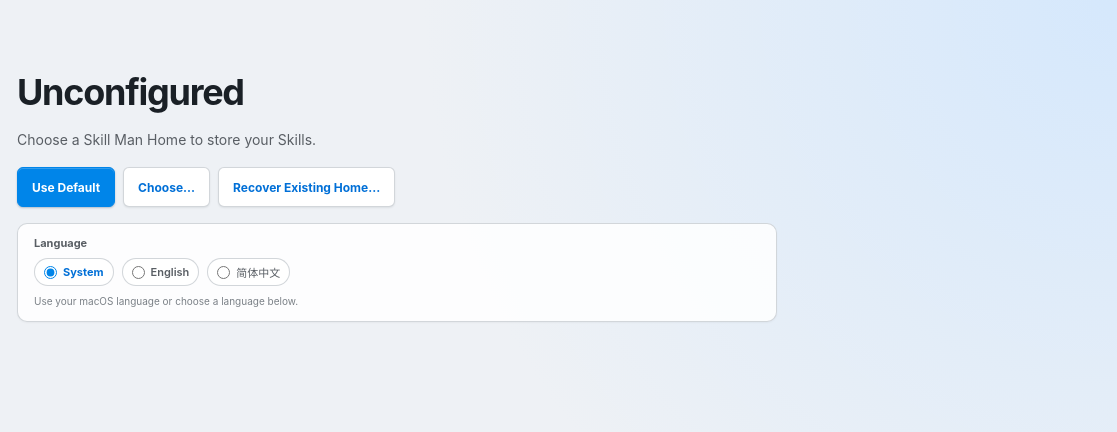
Test: candidate rejection renders a reason-specific message with diagnostics
Step 1. Click the button "Use Default" → [66, 187], box x1=17 y1=167 x2=115 y2=207
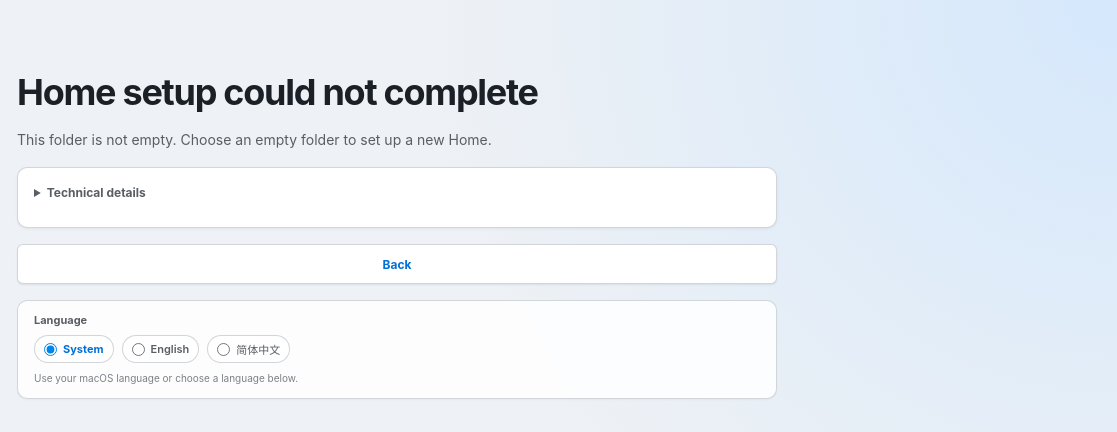
Check: the heading "Home setup could not complete" is shown, box x1=17 y1=70 x2=538 y2=114
Check: the text "This folder is not empty. Choose an empty folder to set up a new Home." is shown, box x1=17 y1=131 x2=492 y2=148
